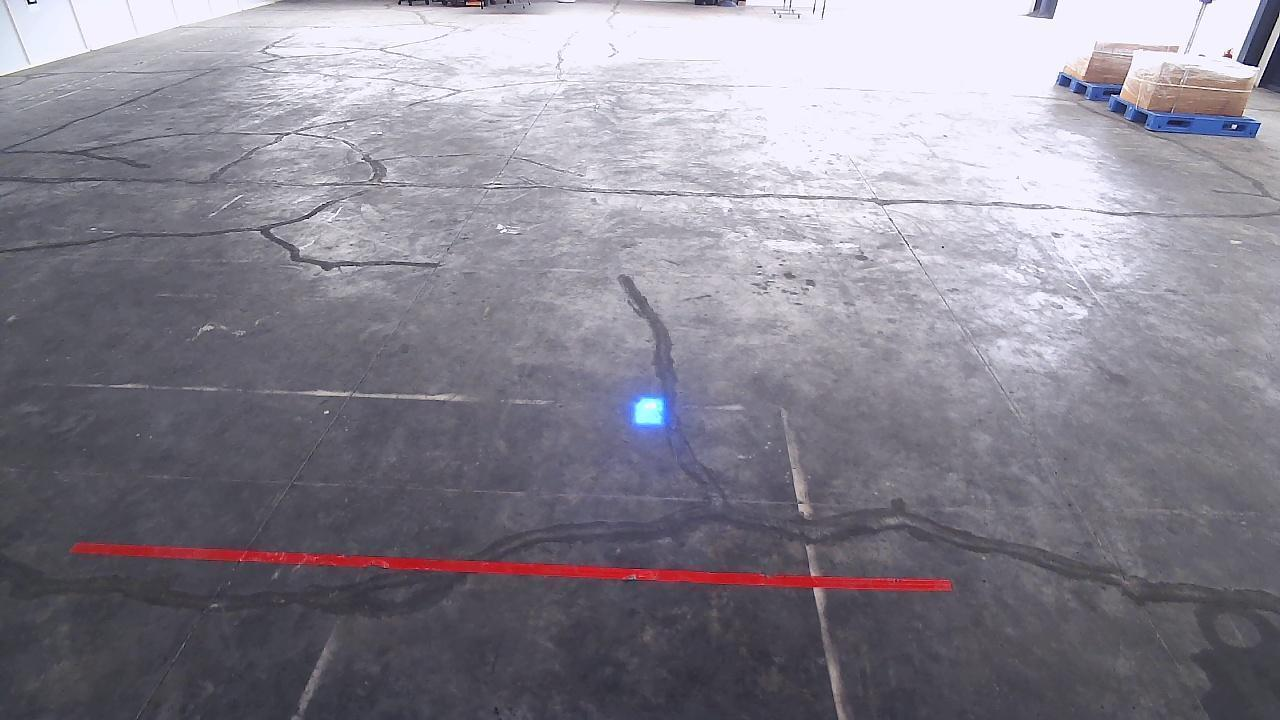red_line: (64, 541, 952, 590)
